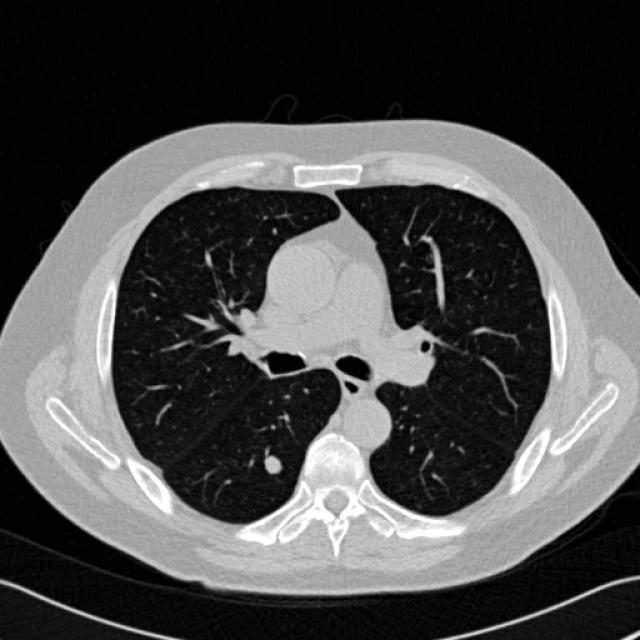nodule: (251, 444, 291, 484)
